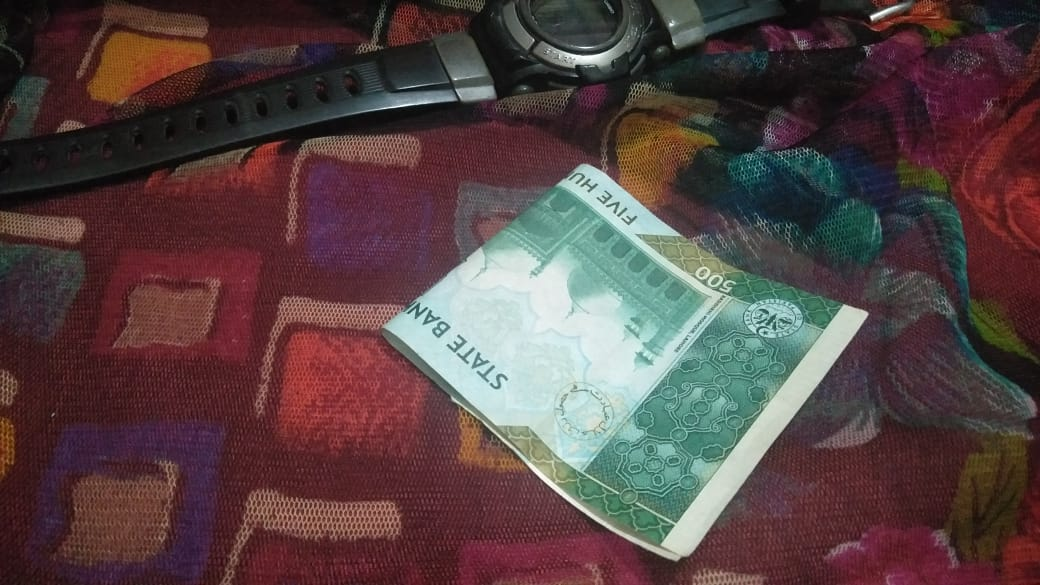500 rupee: (387, 148, 890, 552)
